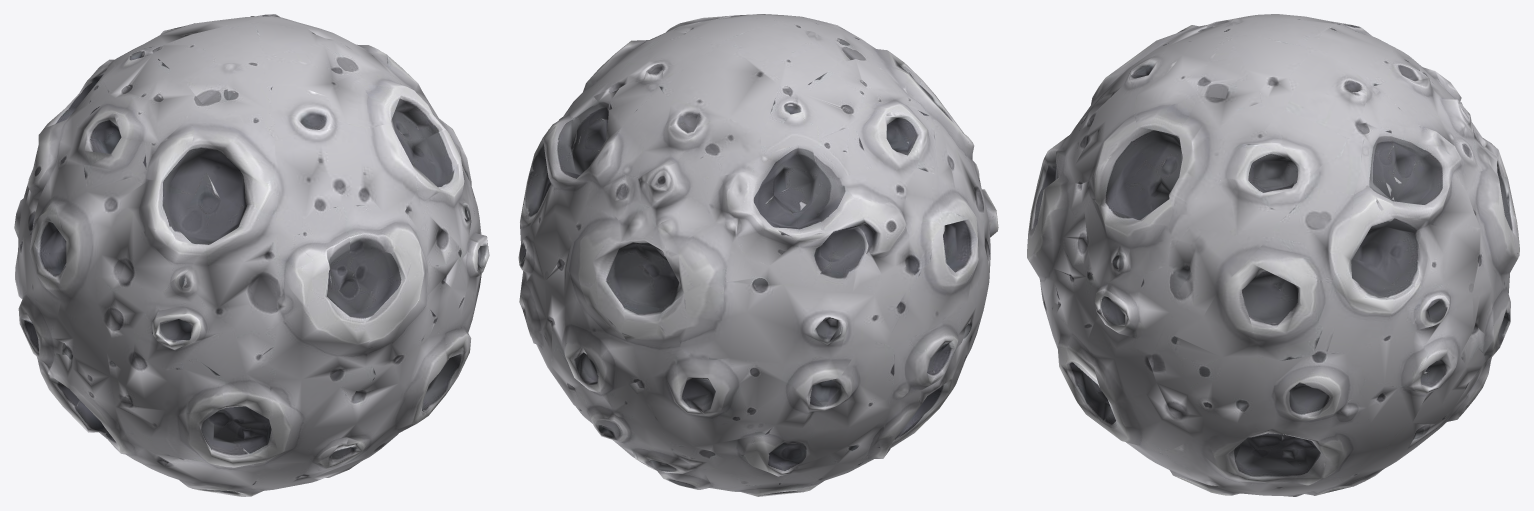
Rendered from moon.glb.
3 renders of one model, left to right at view 1: azimuth 30°, elevation 25°; view 2: azimuth 150°, elevation 25°; view 3: azimuth 270°, elevation 25°, orthographic.
Bounding box in the file's own units: 1.87 × 1.88 × 1.9.
Materials: 1 (1 with a texture image).
